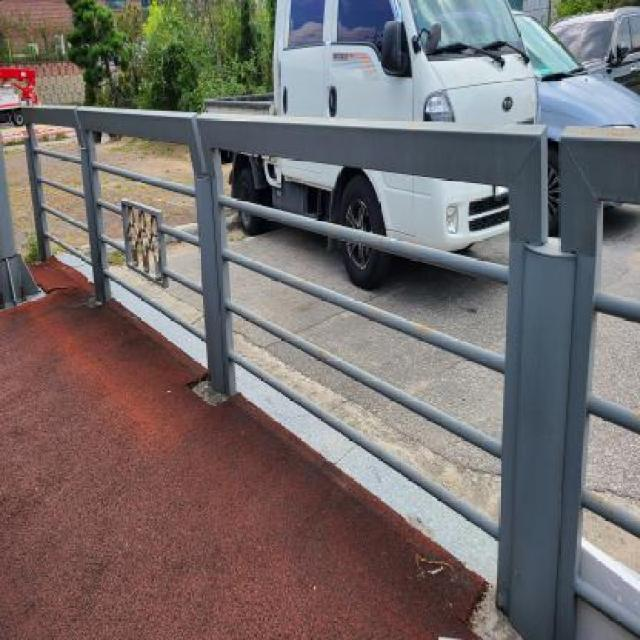fence: (187, 86, 611, 634), (9, 70, 242, 395)
